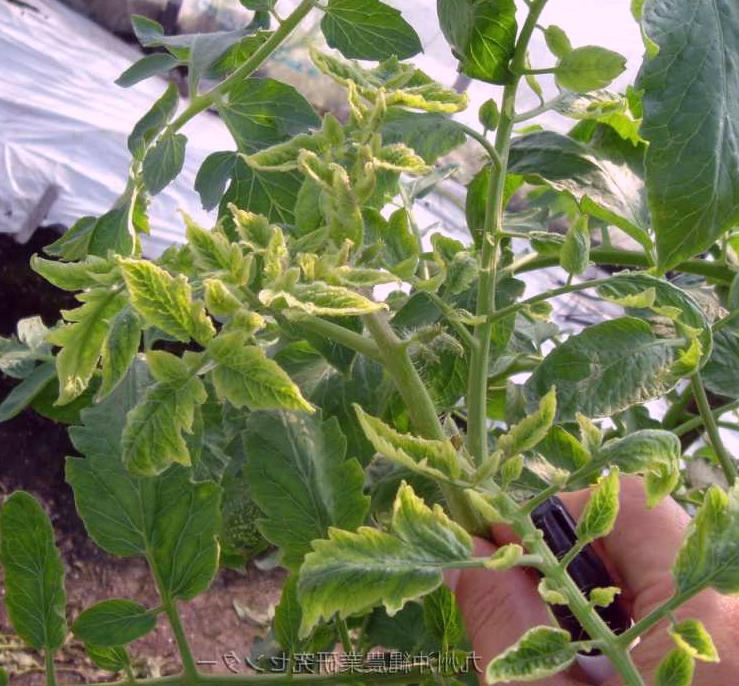Tomato leaf yellow virus: (269, 488, 479, 644), (344, 394, 501, 509), (648, 479, 739, 618), (196, 331, 322, 418), (120, 361, 205, 483), (550, 417, 682, 488), (115, 257, 209, 344), (483, 620, 579, 686), (273, 276, 394, 328), (365, 133, 437, 186)
